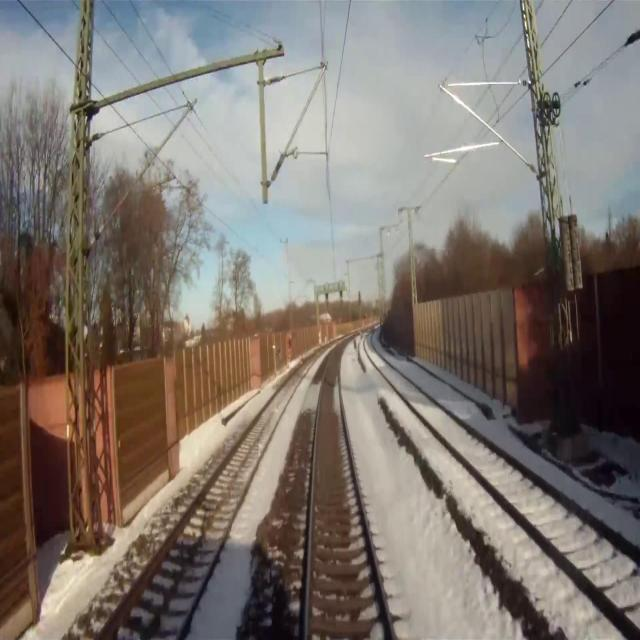rail-track: (365, 335, 640, 629), (101, 354, 317, 639), (308, 344, 391, 639)
